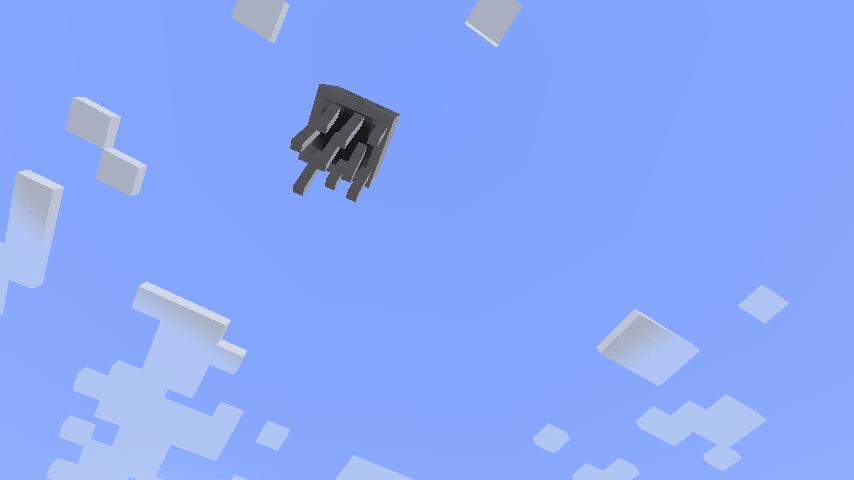ghast: (289, 81, 401, 201)
